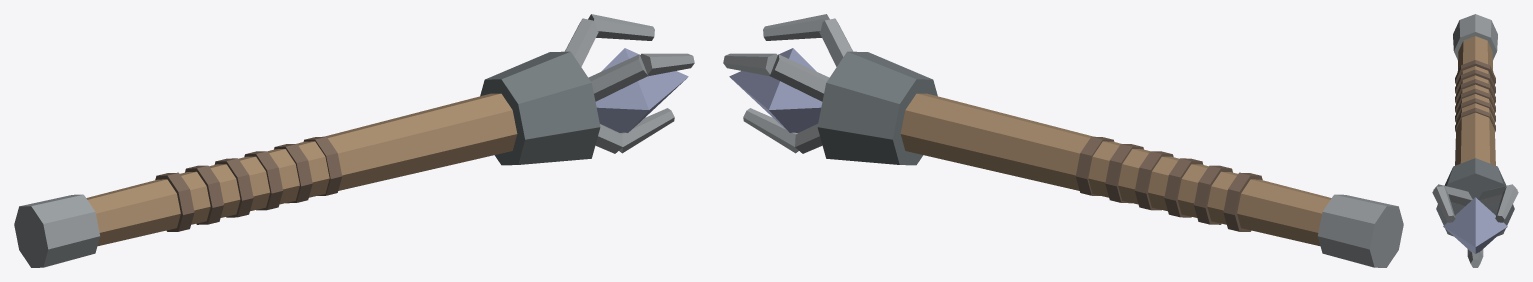
The model's file is staff.glb.
The picture shows the model from 3 angles, left to right: view 1: azimuth 30°, elevation 25°; view 2: azimuth 150°, elevation 25°; view 3: azimuth 270°, elevation 25°; orthographic projection. The views are drawn at different scales.
Parts seen in each view (by area): view 1: staff; view 2: staff; view 3: staff.
Boxes of the visible parts, x1,y1,x2,y2 form: staff: [14, 14, 694, 267]; staff: [723, 14, 1403, 267]; staff: [1432, 14, 1518, 267].
Size of the model in its own units: 0.512 by 0.0859 by 0.088.
